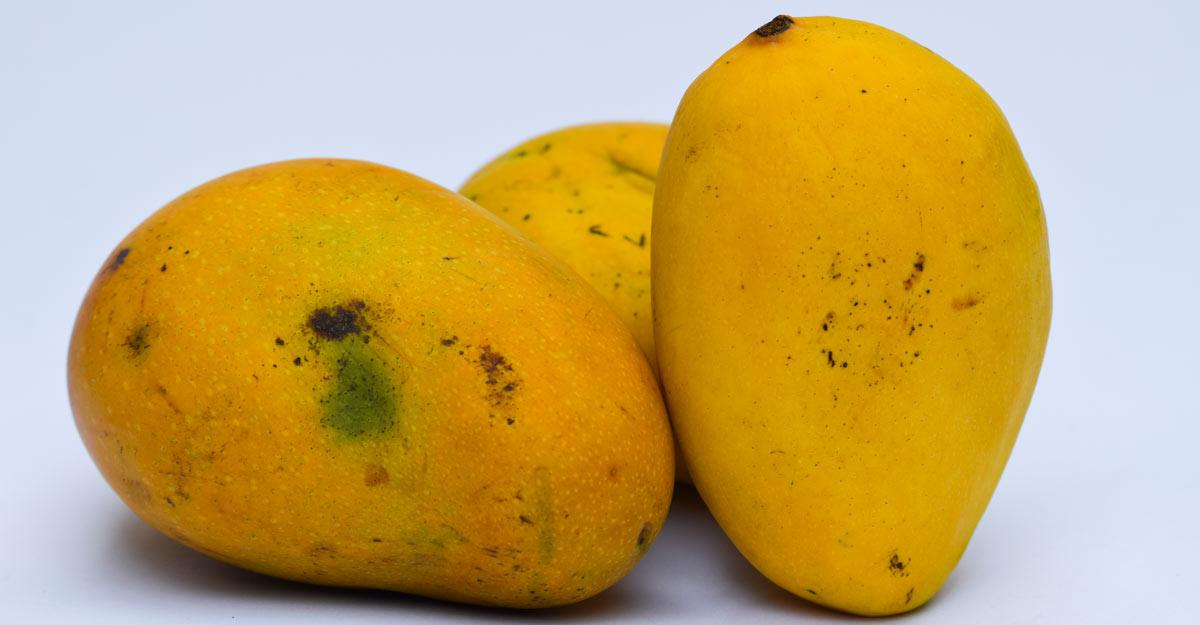xoai: (67, 154, 672, 609), (654, 17, 1051, 613)
